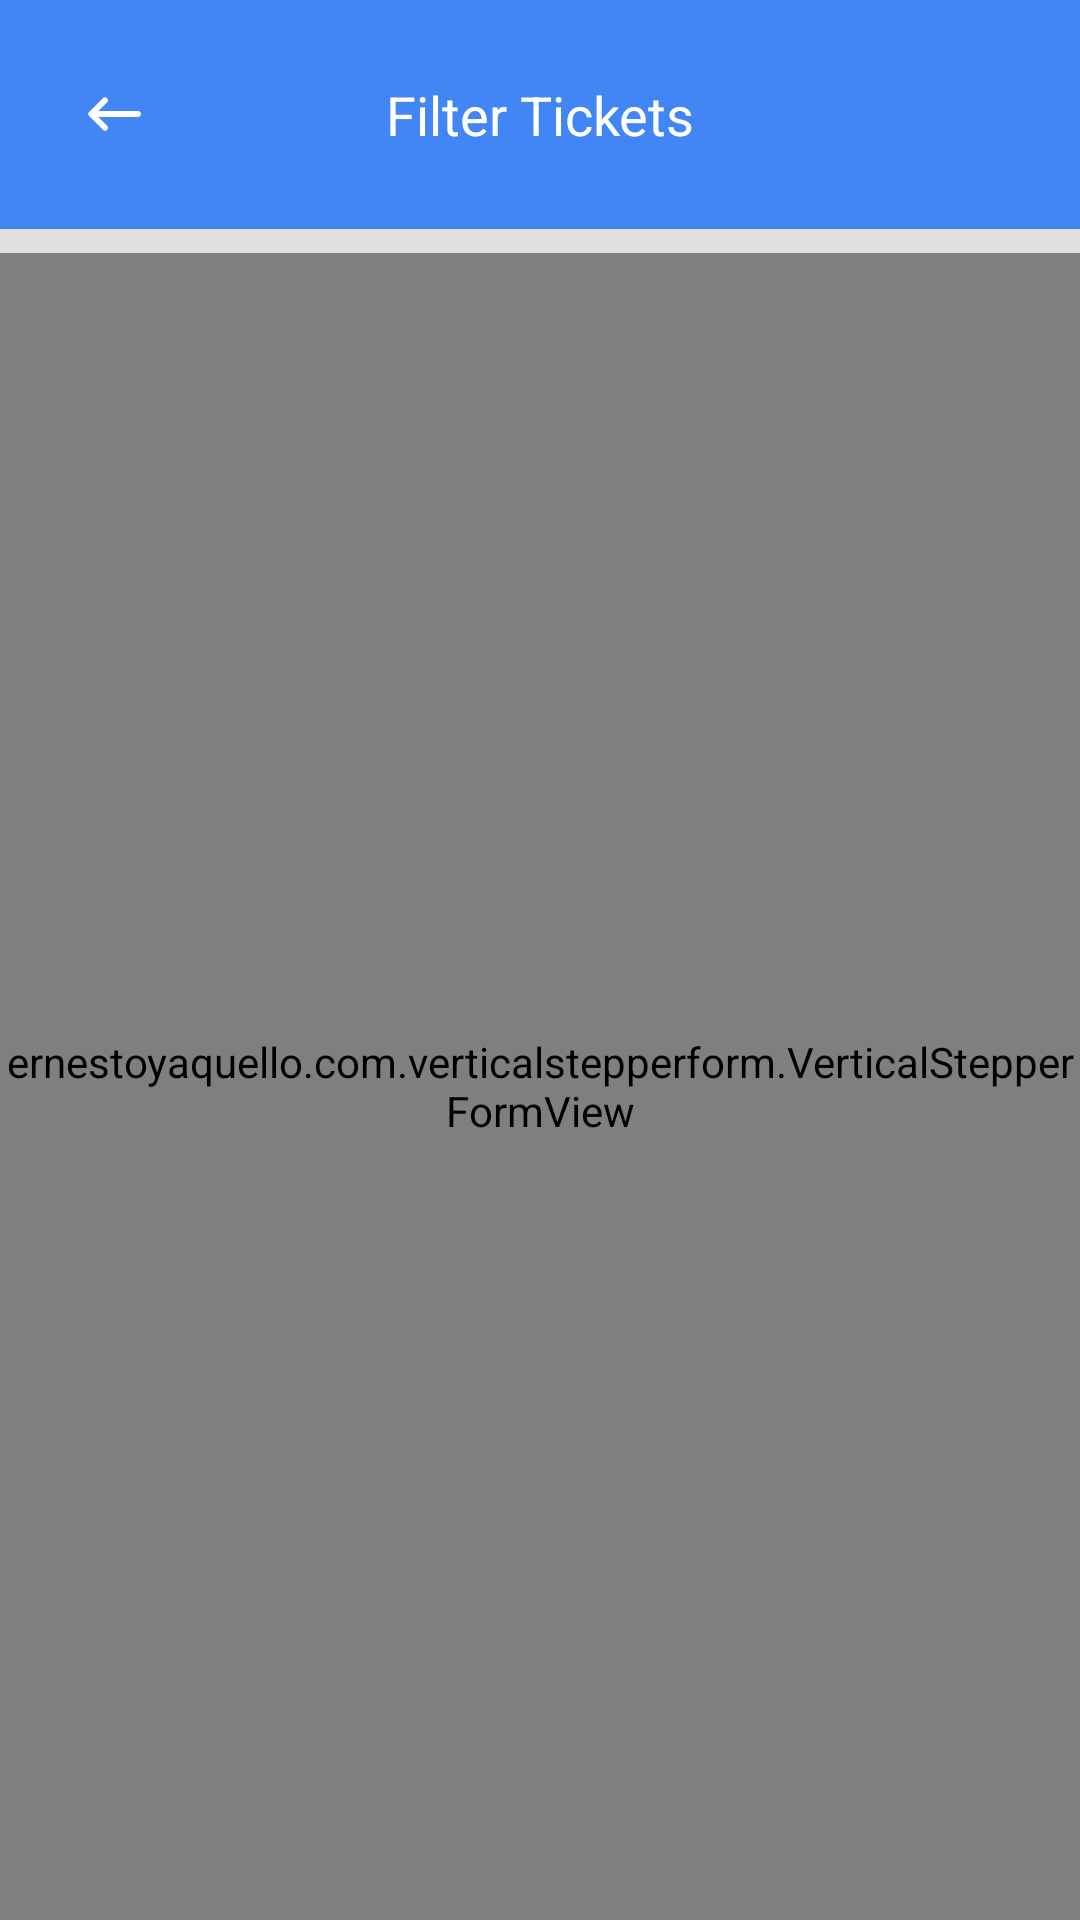

Named icons in this screenshot (1080 × 1920) and their centers, (x,y):
keyboard backspace: (114,114)
